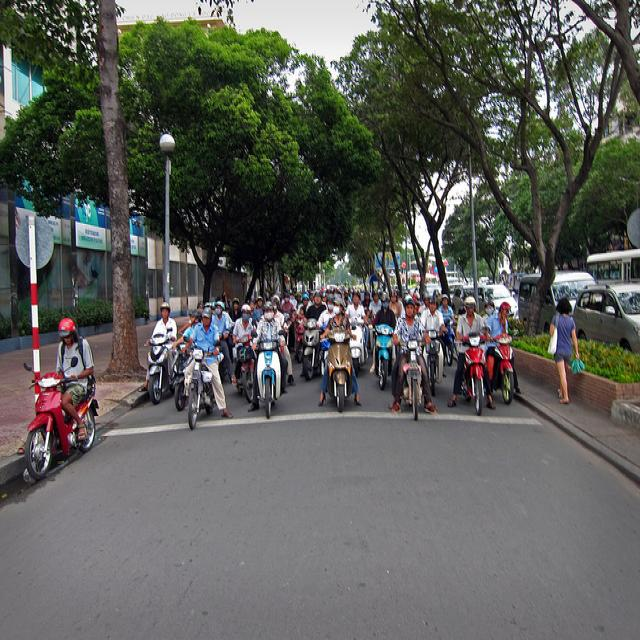motor: (216, 306, 464, 403), (23, 355, 101, 486), (455, 319, 488, 417), (186, 342, 222, 430), (321, 326, 355, 411), (398, 336, 431, 420), (143, 328, 173, 406), (489, 332, 519, 404), (256, 340, 281, 419), (170, 348, 194, 412), (371, 325, 394, 389), (241, 346, 259, 413), (304, 319, 321, 381), (322, 342, 330, 379)
